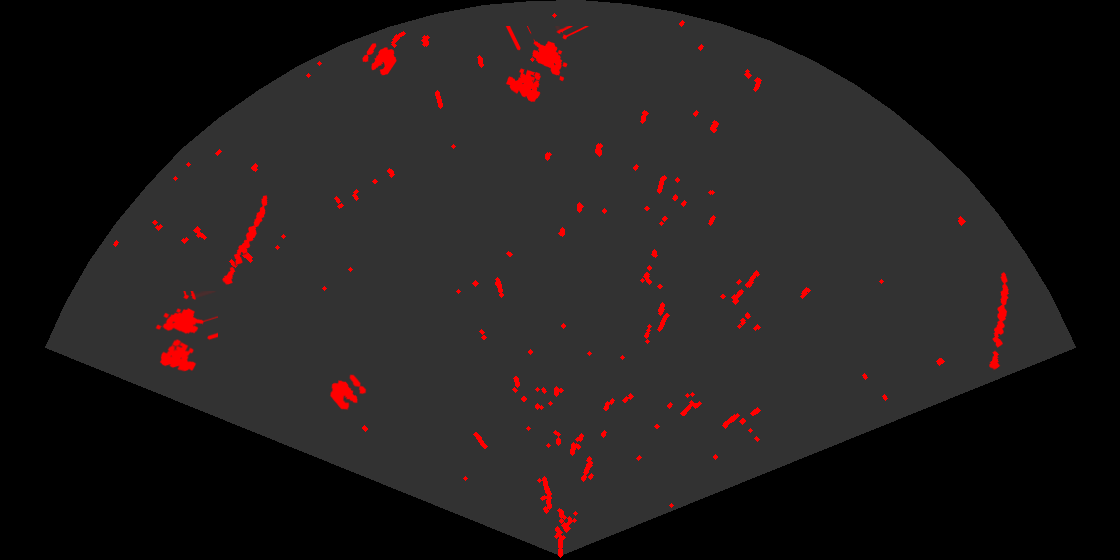ball: (328, 373, 368, 412), (361, 42, 398, 77)
cage: (504, 26, 590, 104), (154, 291, 218, 373)
chain: (221, 194, 269, 286), (988, 270, 1011, 372)
